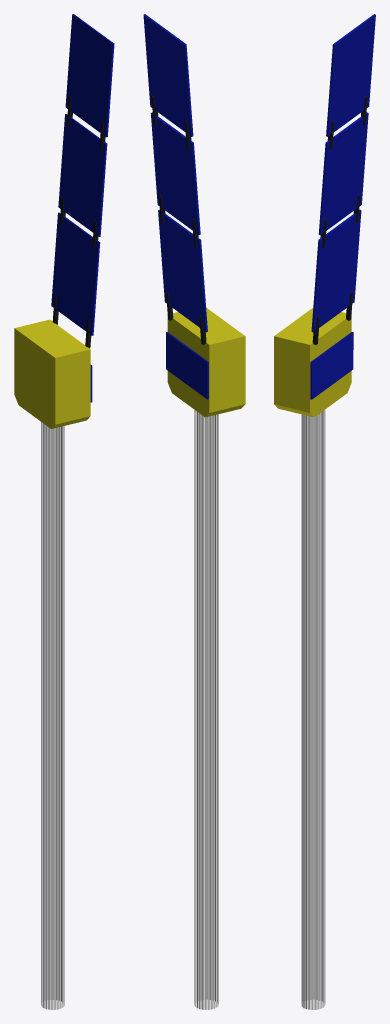
File: orbcomm.obj
The picture shows the model from 3 angles, left to right: view 1: azimuth 30°, elevation 25°; view 2: azimuth 210°, elevation 25°; view 3: azimuth 330°, elevation 25°; orthographic projection.
Visible parts, largest first — view 1: Cube, Cube.006_Cube.001, Cube.005, Cube.003_Cube.004; view 2: Cube, Cube.006_Cube.001, Cube.003_Cube.004, Cube.005, Cube.010_Cube.022; view 3: Cube, Cube.006_Cube.001, Cube.005, Cube.003_Cube.004, Cube.010_Cube.022.
Boxes of the visible parts, box(x1,y1,x2,y2) form: Cube: box(14, 319, 90, 1009); Cube.006_Cube.001: box(65, 14, 114, 137); Cube.005: box(58, 114, 107, 236); Cube.003_Cube.004: box(51, 212, 100, 335); Cube: box(167, 308, 245, 1009); Cube.006_Cube.001: box(143, 14, 193, 136); Cube.003_Cube.004: box(158, 209, 207, 332); Cube.005: box(150, 112, 200, 234); Cube.010_Cube.022: box(166, 332, 208, 399); Cube: box(274, 308, 351, 1009); Cube.006_Cube.001: box(326, 14, 375, 136); Cube.005: box(318, 112, 368, 235); Cube.003_Cube.004: box(311, 209, 361, 332); Cube.010_Cube.022: box(310, 332, 353, 399).
Bounding box in the file's own units: 0.8375 × 13.05 × 1.
